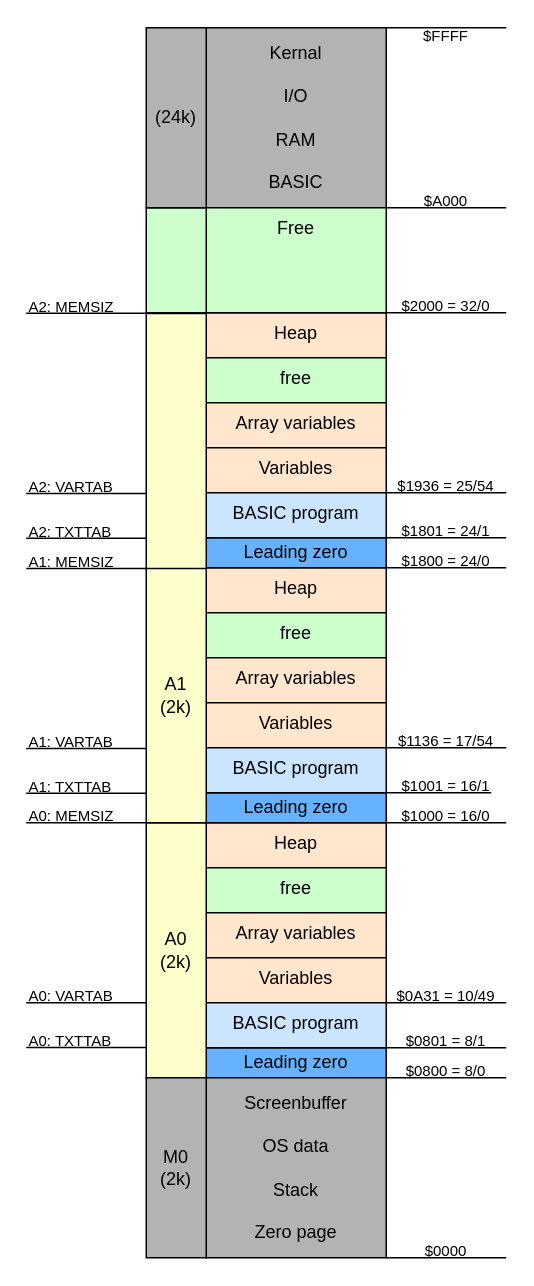
The diagram is 534 pixels wide and 1286 high, and some of its shapes have lost their labels. The shapes that lost their labels are listed below. From the top down, each one's centre as x and y in pixels, then its label:
At (175,259): "(32k)".
At (175,440): "A2 (2k)".
